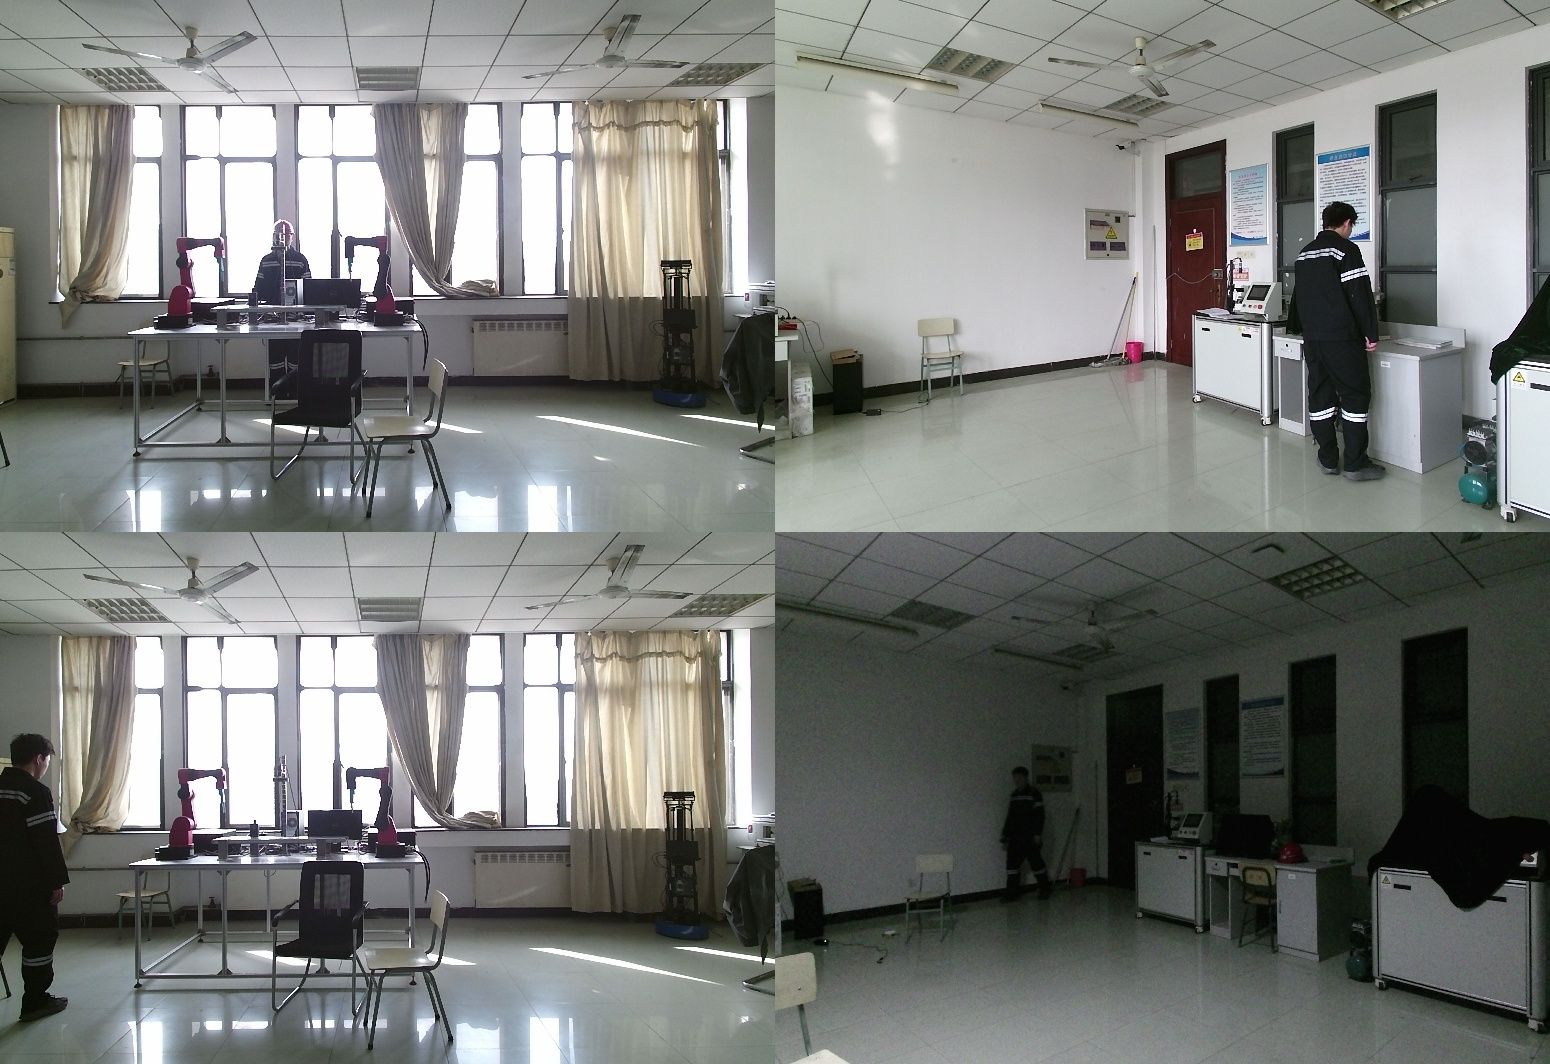person: (1290, 204, 1390, 487), (2, 734, 75, 1030), (251, 222, 312, 402), (1001, 769, 1052, 906)
